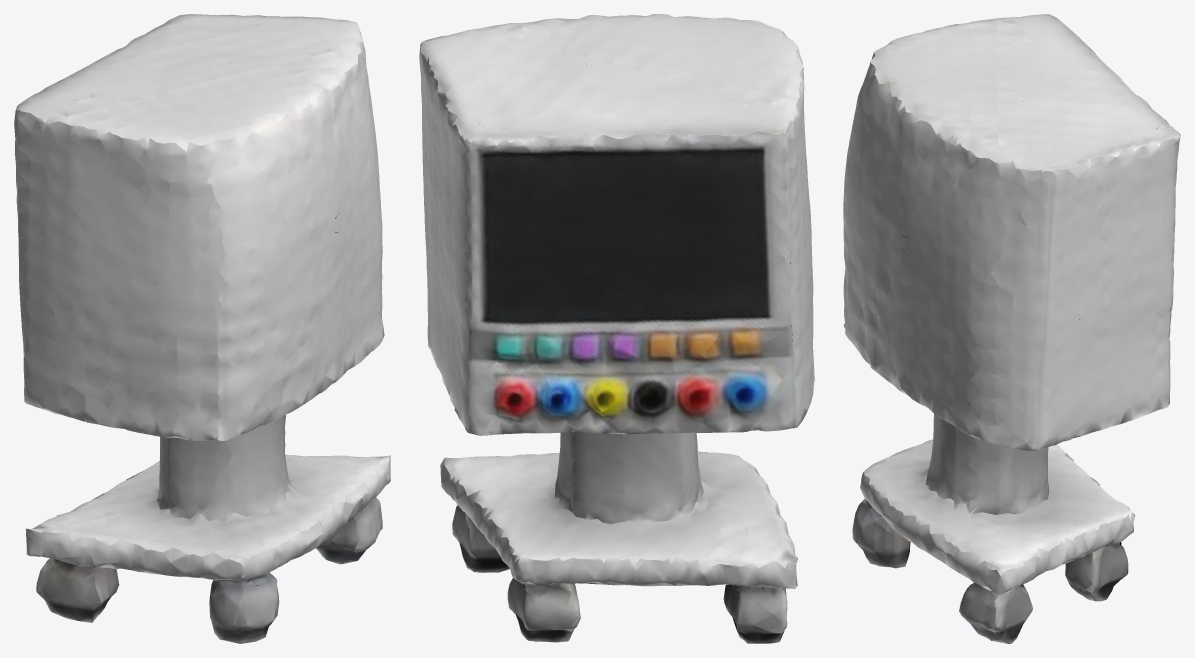
File: ecg-cart.glb
3 views of the same model, side by side, from view 1: azimuth 30°, elevation 25°; view 2: azimuth 150°, elevation 25°; view 3: azimuth 270°, elevation 25° (orthographic). The views are drawn at different scales.
Parts seen in each view (by area): view 1: world; view 2: world; view 3: world.
Boxes of the visible parts, left/top/right/bottom form: world: left=14, top=14, right=390, bottom=643; world: left=419, top=14, right=814, bottom=643; world: left=843, top=14, right=1180, bottom=643.
Size of the model in its own units: 0.6163 by 0.8702 by 0.5349.
1 material, 1 textured.
